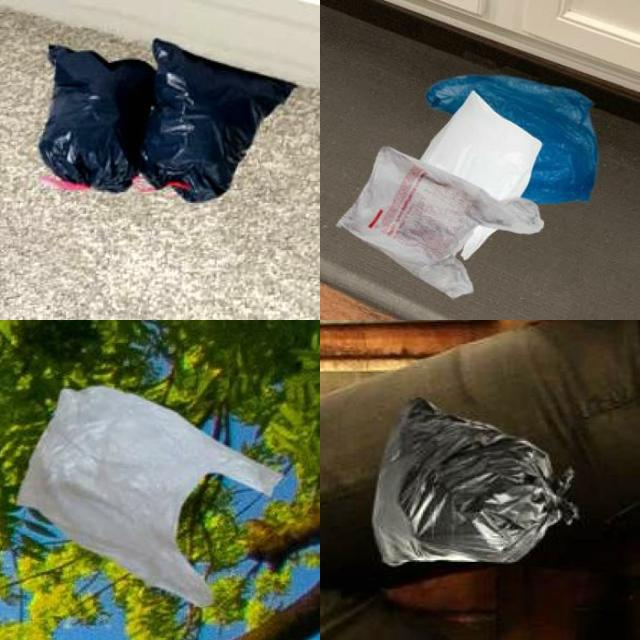Single-layer Plastic: (18, 386, 281, 606), (372, 398, 578, 566), (338, 146, 544, 297), (141, 39, 295, 202), (426, 75, 598, 204), (39, 45, 155, 192)
